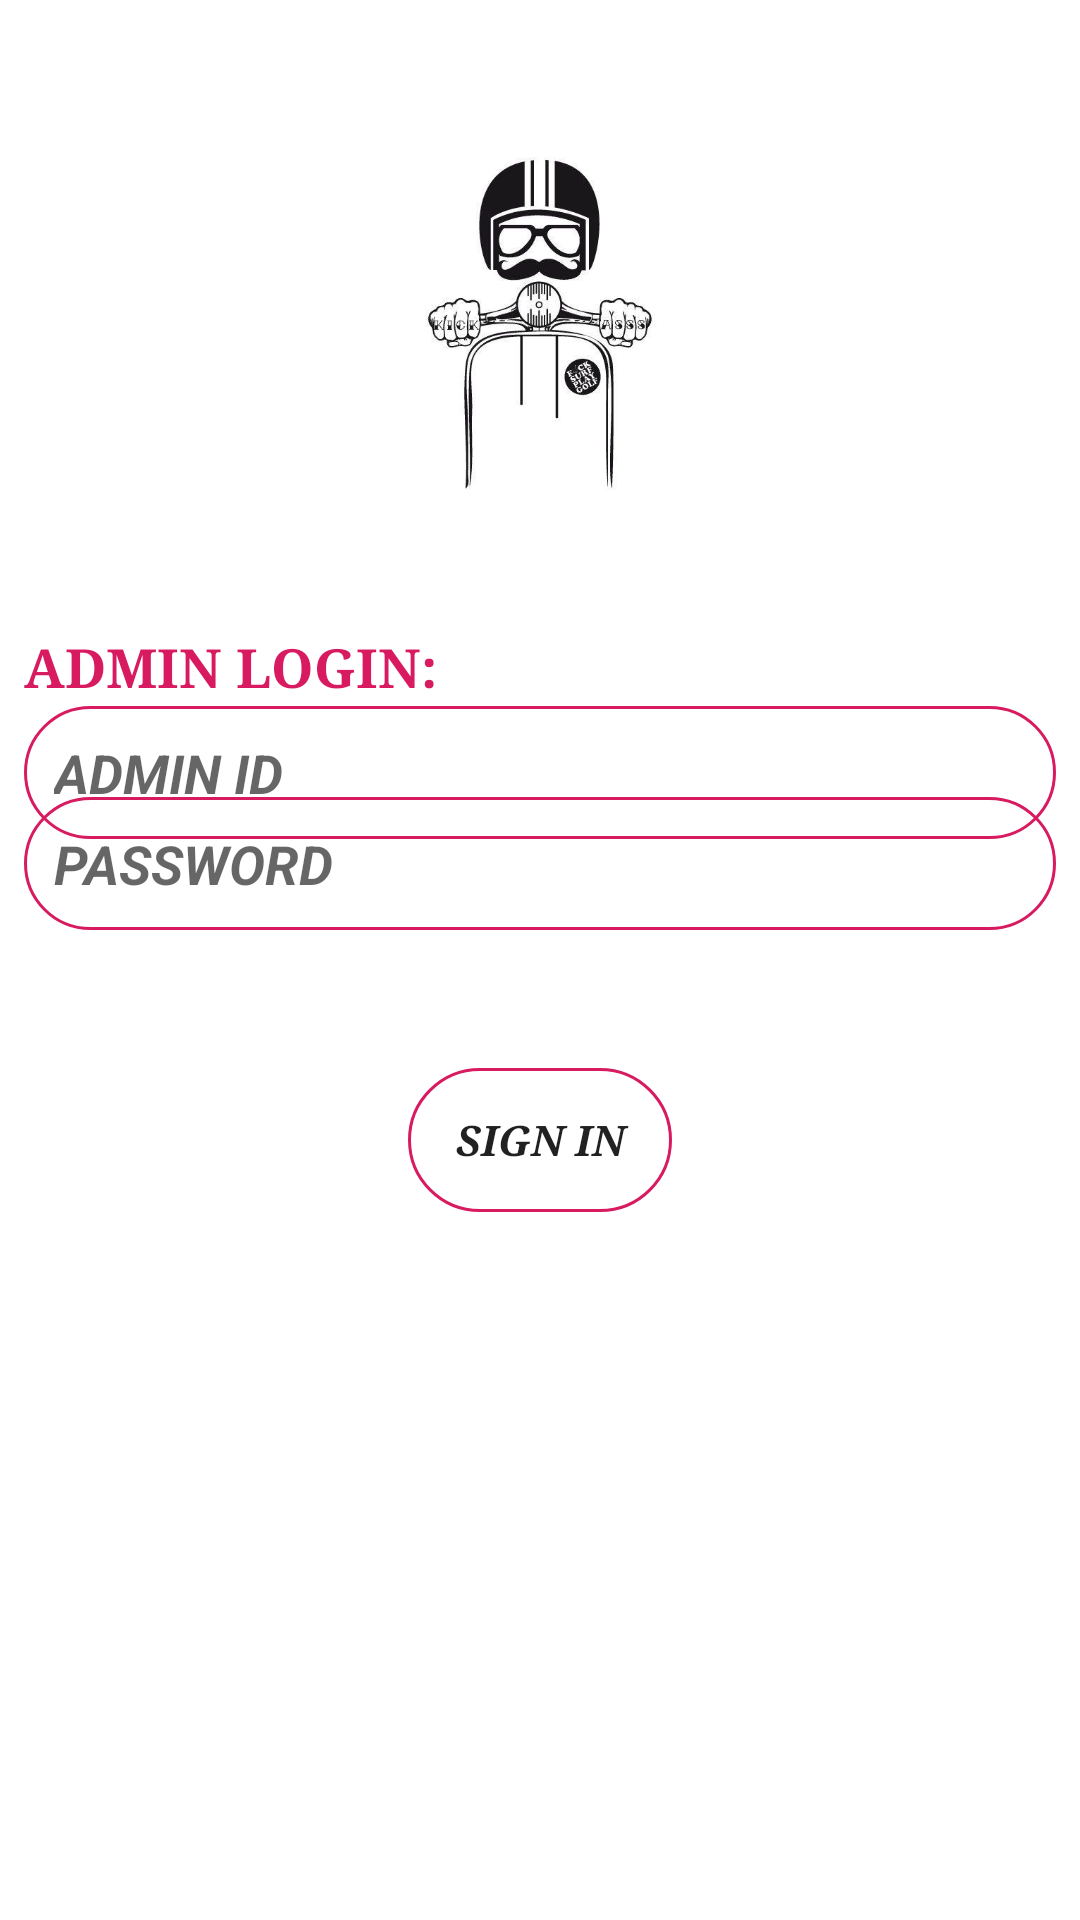

Locate icon controls on the screen. Image size 1080x1920, boxes as (x1, y1, x2, y2).
photo: (428, 160, 652, 489)
